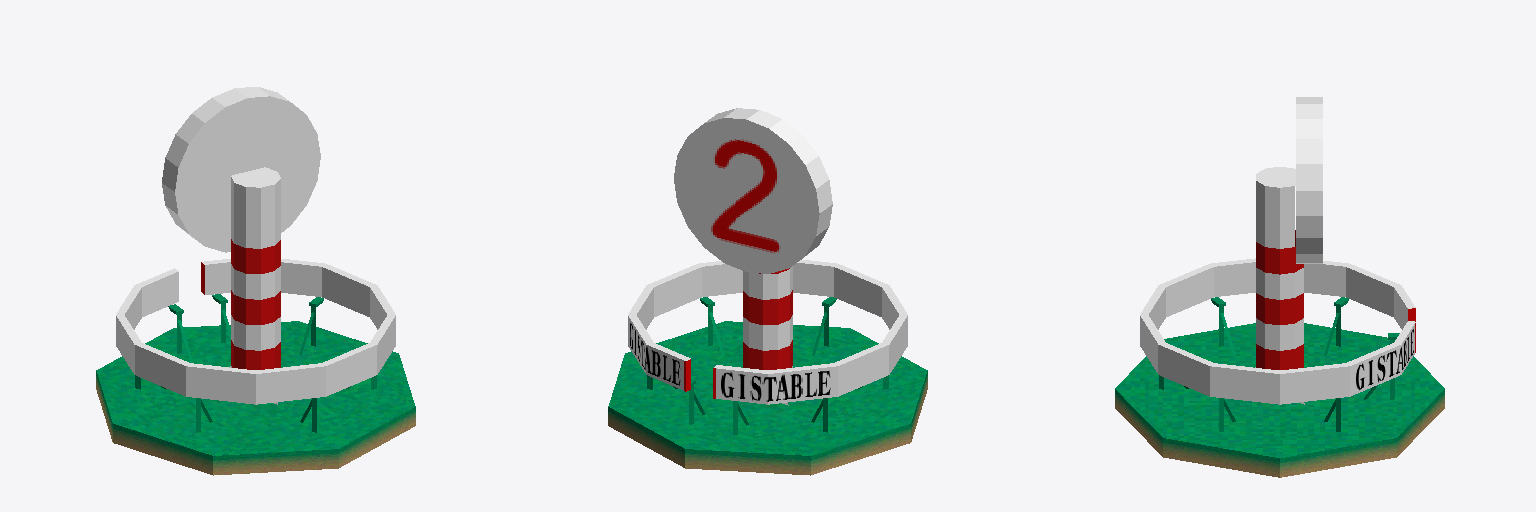
3 renders of one model, left to right at view 1: azimuth 30°, elevation 25°; view 2: azimuth 150°, elevation 25°; view 3: azimuth 270°, elevation 25°, orthographic.
Bounding box in the file's own units: 4.71 × 4.78 × 4.71.
Materials: 1 (1 with a texture image).